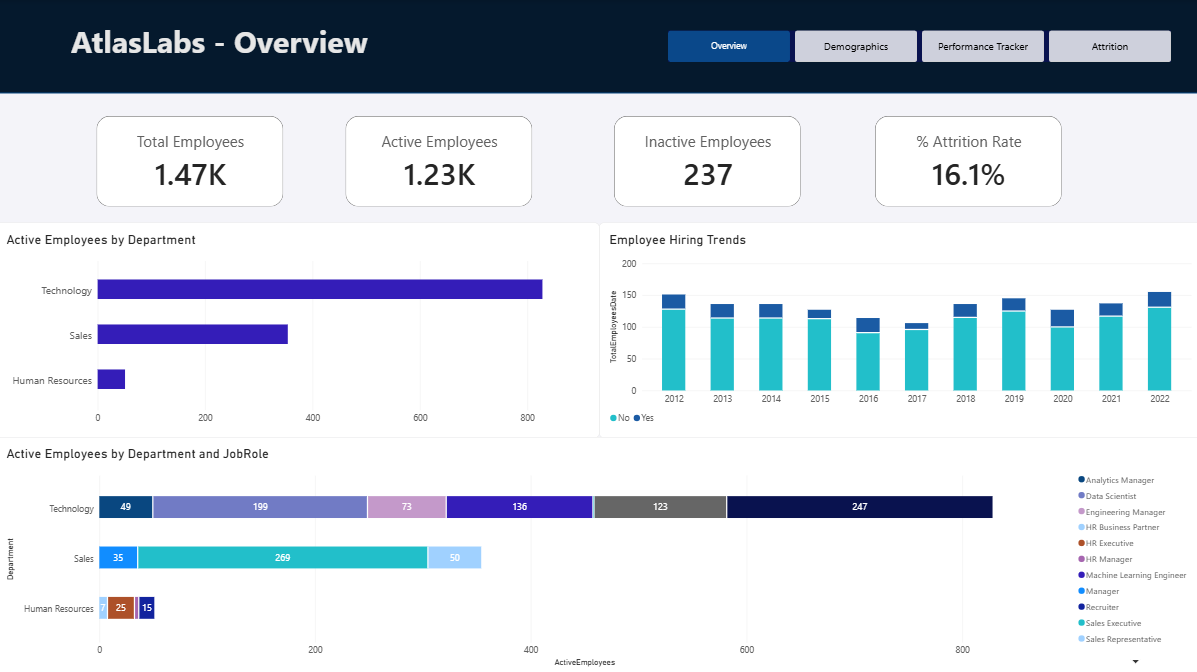

Layout of this report page (visuals, bound fields, positions):
{"tool":"powerbi","page":{"name":"Overview","canvas":[1920,1080],"ordinal":0},"visuals":[{"type":"cardVisual","fields":{"Data":["_Measures.TotalEmployees"]},"box":[160,185,297.9,144.8],"z":0},{"type":"cardVisual","fields":{"Data":["_Measures.InactiveEmployees"]},"box":[982.5,185,297.9,144.8],"z":1000},{"type":"cardVisual","fields":{"Data":["_Measures.ActiveEmployees"]},"box":[555,185,297.9,144.8],"z":2000},{"type":"cardVisual","fields":{"Data":["_Measures.% Attrition Rate"]},"box":[1397.5,185,297.9,144.8],"z":3000},{"type":"columnChart","title":"Employee Hiring Trends","fields":{"Category":["DimDate.Date.Variation.Date Hierarchy.Year","DimDate.Date.Variation.Date Hierarchy.Quarter","DimDate.Date.Variation.Date Hierarchy.Month","DimDate.Date.Variation.Date Hierarchy.Day"],"Series":["DimEmployee.Attrition"],"Y":["_Measures.TotalEmployeesDate"]},"box":[960,355,960,342.5],"z":4000},{"type":"clusteredBarChart","title":"Active Employees by Department","fields":{"Category":["DimEmployee.Department"],"Y":["_Measures.ActiveEmployees"]},"box":[0,355,960,342.5],"z":5000},{"type":"barChart","title":"Active Employees by Department and JobRole","fields":{"Category":["DimEmployee.Department"],"Series":["DimEmployee.JobRole"],"Y":["_Measures.ActiveEmployees"]},"box":[0,697.5,1920,382.5],"z":6000},{"type":"shape","box":[0,0,1920,150],"z":7000},{"type":"textbox","box":[100,100,300,300],"z":8000},{"type":"textbox","box":[120,32.5,695,85],"z":9000},{"type":"pageNavigator","box":[1070,50,800,50],"z":9001}]}

Visuals, with their boxes in screenshot pixels (x1, y1, x2, y2), scaled from the page's 1920x1080 canvas onto the 1197x672 screenshot:
cardVisual - _Measures.TotalEmployees: locate(100, 115, 285, 205)
cardVisual - _Measures.InactiveEmployees: locate(613, 115, 798, 205)
cardVisual - _Measures.ActiveEmployees: locate(346, 115, 532, 205)
cardVisual - _Measures.% Attrition Rate: locate(871, 115, 1057, 205)
"Employee Hiring Trends" columnChart: locate(598, 221, 1196, 434)
"Active Employees by Department" clusteredBarChart: locate(0, 221, 598, 434)
"Active Employees by Department and JobRole" barChart: locate(0, 434, 1196, 671)
shape: locate(0, 0, 1196, 93)
textbox: locate(62, 62, 249, 249)
textbox: locate(75, 20, 508, 73)
pageNavigator: locate(667, 31, 1166, 62)
